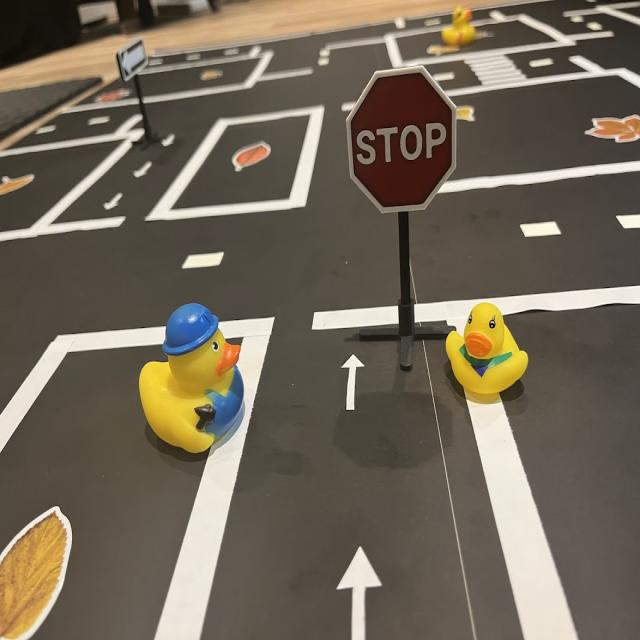duck_regular: (443, 302, 533, 399)
duck_specialty: (137, 300, 247, 458), (441, 8, 477, 48)
road_crosswalk: (460, 50, 536, 93)
road_oneway: (331, 535, 387, 640), (342, 350, 366, 414), (101, 193, 126, 214), (130, 161, 155, 180), (160, 133, 180, 150)
sign_oneway_left: (117, 38, 151, 85)
sign_stop: (348, 67, 456, 212)
